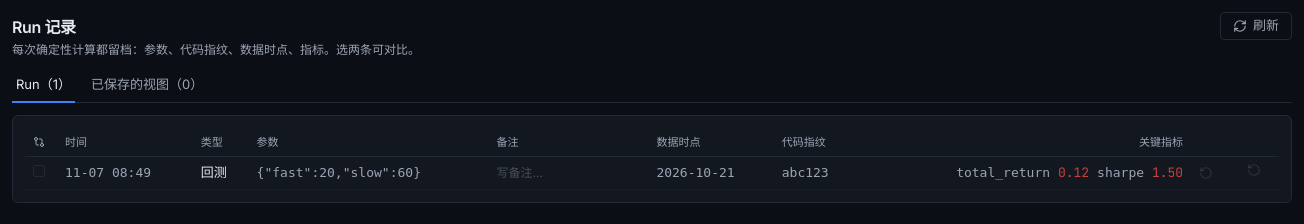
Run 行内备注 › 点备注格变输入框，失焦保存
Click the button titled "写备注" at [520, 173], box [496,164,543,182]
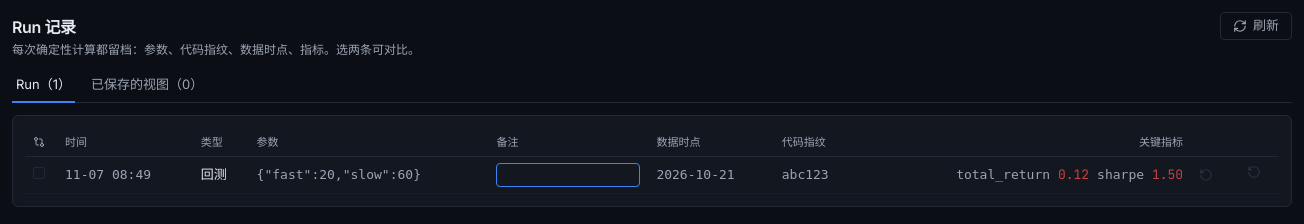
Type "想验证 fast=20 是否过拟合" into the field named "Run 备注" at [568, 175], box [496,163,640,187]
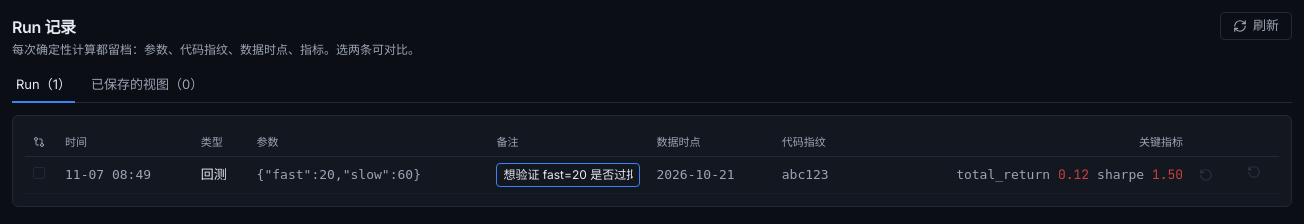
Leave the field named "Run 备注", box [496,163,640,187]
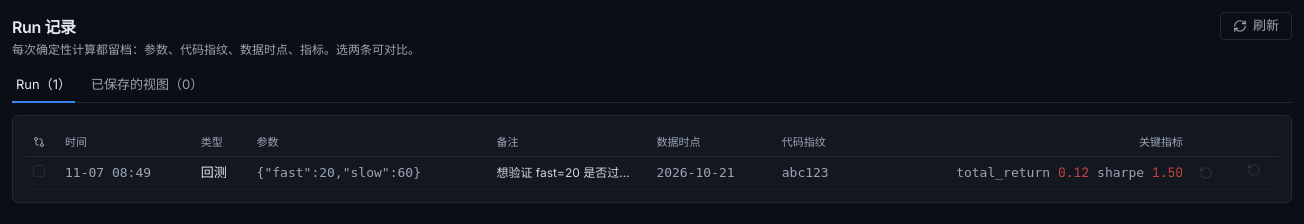
Result: the button "想验证 fast=20 是否过拟合" is shown at [496,164,640,182]
